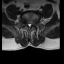CCS_normal: (28, 22, 30, 30)
LFS_severe_stenosis: (32, 22, 33, 26)
LLS_stenosis: (30, 22, 31, 27)
RFS_severe_stenosis: (25, 22, 27, 26)
RLS_severe_stenosis: (27, 22, 29, 27)
